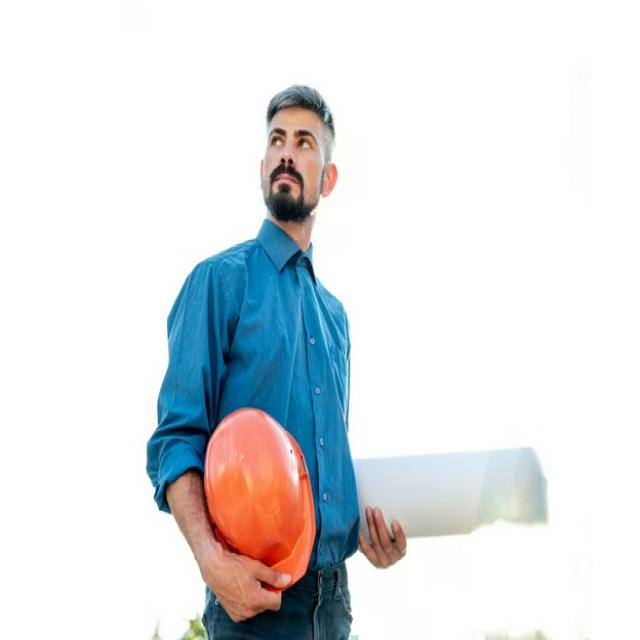nothing: (260, 75, 344, 137)
